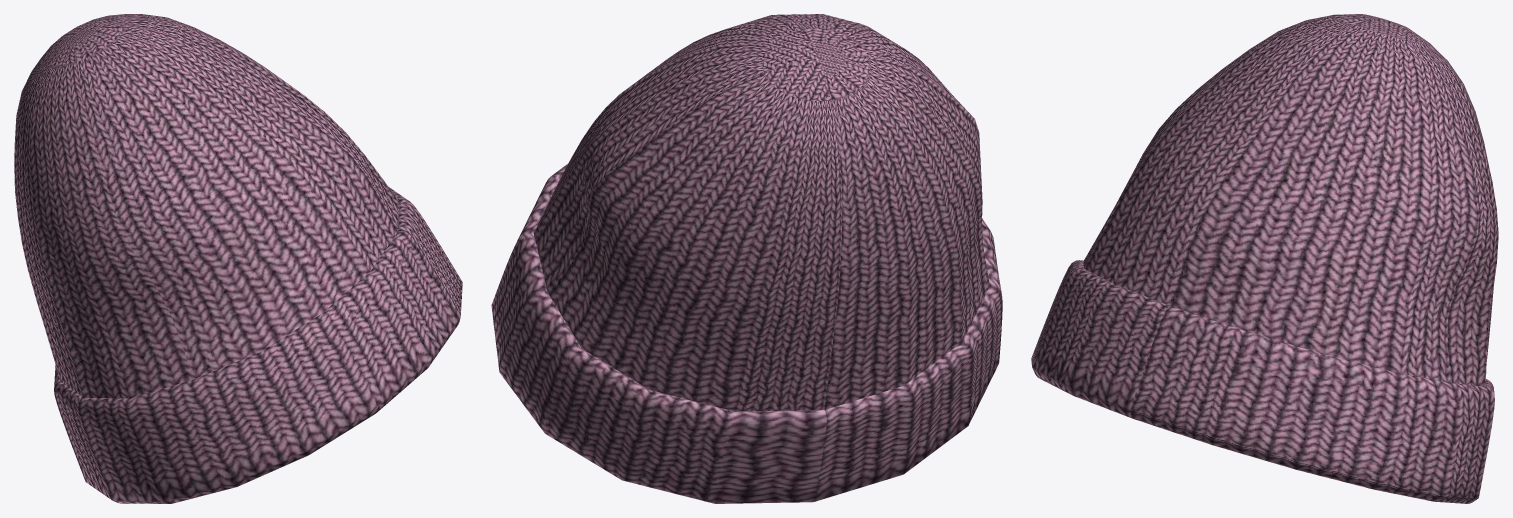
Rendered from beanie.glb.
3 renders of one model, left to right at view 1: azimuth 30°, elevation 25°; view 2: azimuth 150°, elevation 25°; view 3: azimuth 270°, elevation 25°, orthographic. The views are drawn at different scales.
Visible parts, largest first — view 1: beanie; view 2: beanie; view 3: beanie.
Part boxes in pixels (x1,y1,x2,y2): beanie: (14, 14, 462, 503); beanie: (491, 14, 1002, 503); beanie: (1031, 14, 1498, 503).
Bounding box in the file's own units: 0.215 × 0.2216 × 0.2142.
1 material, 1 textured.
